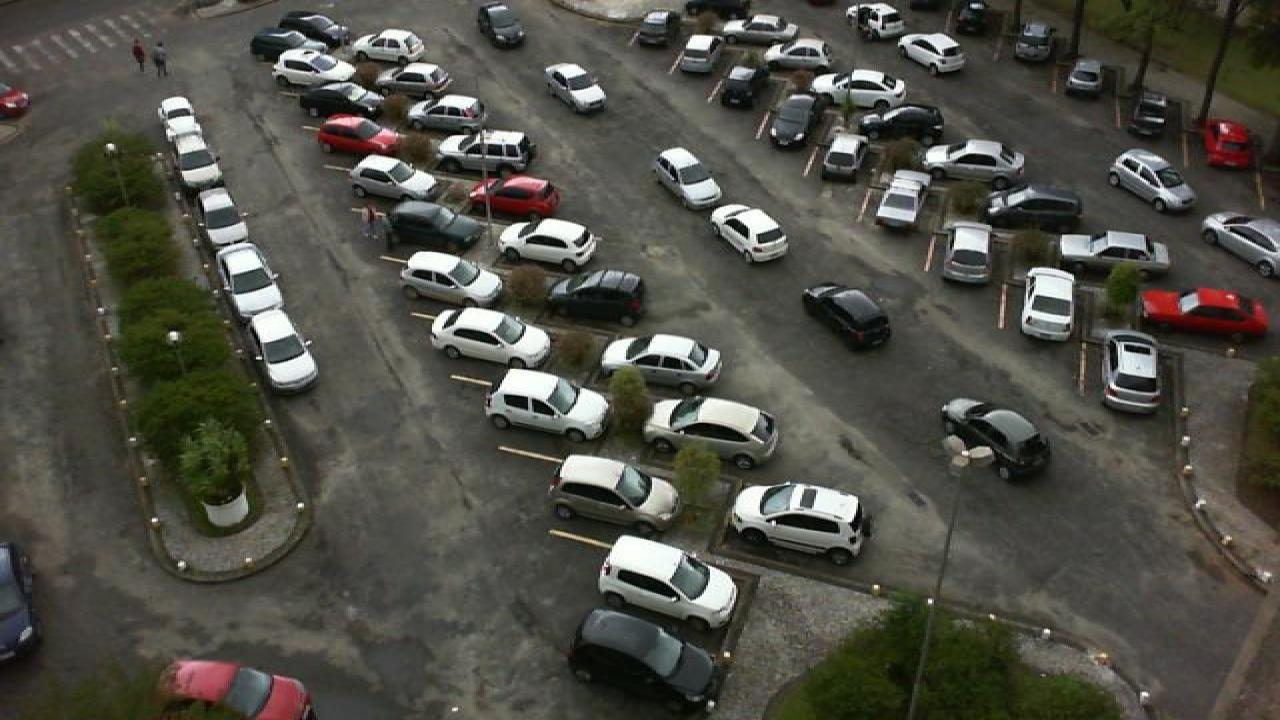Car: (566, 608, 722, 714), (594, 534, 740, 634), (726, 480, 878, 565), (548, 452, 684, 534), (640, 395, 784, 471), (158, 658, 318, 720), (940, 397, 1052, 485), (482, 368, 612, 441), (428, 305, 556, 370), (598, 331, 724, 397), (1138, 286, 1270, 341), (798, 280, 896, 352), (398, 250, 506, 308), (242, 310, 318, 392), (1108, 147, 1198, 215), (1056, 227, 1172, 279), (548, 269, 650, 327), (1100, 331, 1172, 413), (1198, 209, 1280, 281), (498, 217, 602, 271), (382, 199, 488, 250), (706, 202, 790, 264), (1018, 266, 1084, 344), (468, 172, 564, 223), (920, 138, 1026, 184), (988, 182, 1090, 229), (348, 152, 442, 202), (216, 242, 282, 313), (806, 68, 910, 112), (436, 128, 532, 174), (654, 146, 724, 207), (870, 168, 934, 234), (940, 219, 1000, 287), (272, 48, 360, 92), (316, 112, 402, 156), (542, 62, 608, 114), (854, 103, 946, 140), (894, 30, 968, 76), (1196, 117, 1256, 173), (814, 130, 872, 184), (298, 80, 382, 117), (710, 14, 800, 48), (768, 92, 820, 150), (1124, 88, 1182, 138), (408, 93, 486, 130), (348, 27, 426, 63), (248, 27, 322, 64), (382, 61, 454, 97), (718, 64, 770, 112), (762, 36, 834, 70), (670, 31, 722, 78), (476, 2, 526, 50), (846, 0, 906, 40), (198, 206, 254, 248), (280, 10, 348, 44), (174, 145, 226, 188), (156, 94, 202, 138), (190, 178, 240, 218), (1010, 20, 1056, 63), (1064, 57, 1110, 100), (948, 0, 996, 37), (168, 125, 212, 165)
